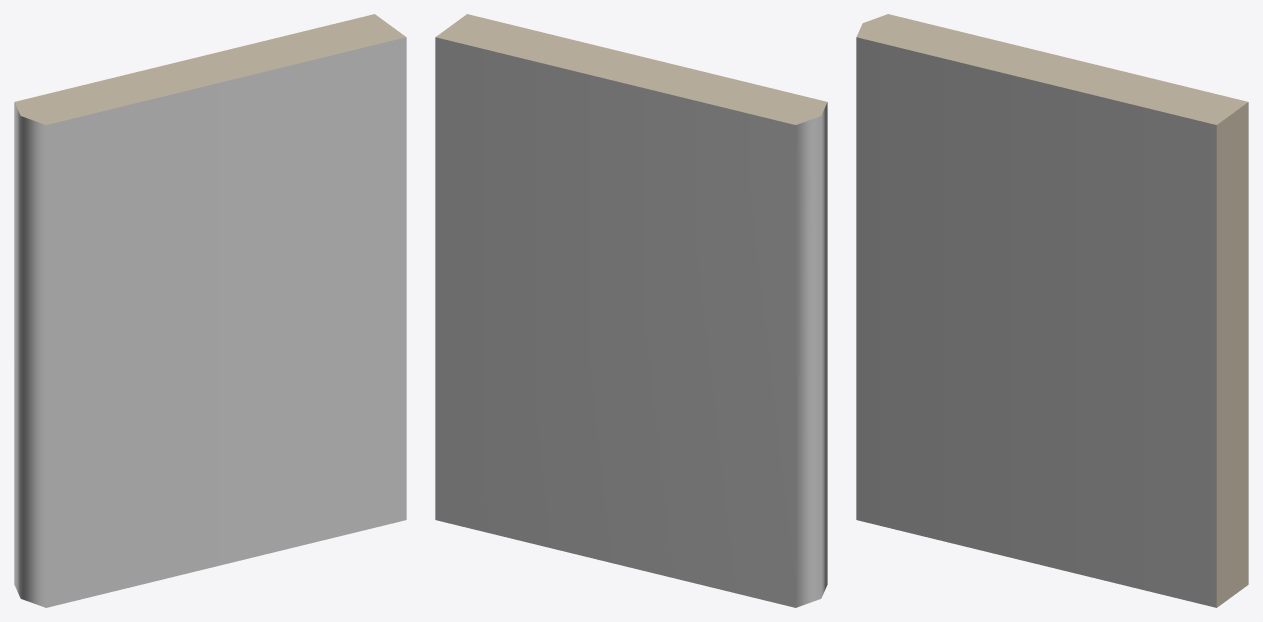
Rendered from SM_H_Government_Tide_Book_01D_ATLAS.fbx.
3 views of the same model, side by side, from view 1: azimuth 30°, elevation 25°; view 2: azimuth 150°, elevation 25°; view 3: azimuth 330°, elevation 25° (orthographic).
Visible parts, largest first — view 1: SM_H_Government_Tide_Book_01D_ATLAS; view 2: SM_H_Government_Tide_Book_01D_ATLAS; view 3: SM_H_Government_Tide_Book_01D_ATLAS.
Boxes of the visible parts, x1,y1,x2,y2 form: SM_H_Government_Tide_Book_01D_ATLAS: (14,14,406,607); SM_H_Government_Tide_Book_01D_ATLAS: (435,14,827,607); SM_H_Government_Tide_Book_01D_ATLAS: (856,14,1248,607).
Bounding box in the file's own units: 28.44 × 4.22 × 35.47.
